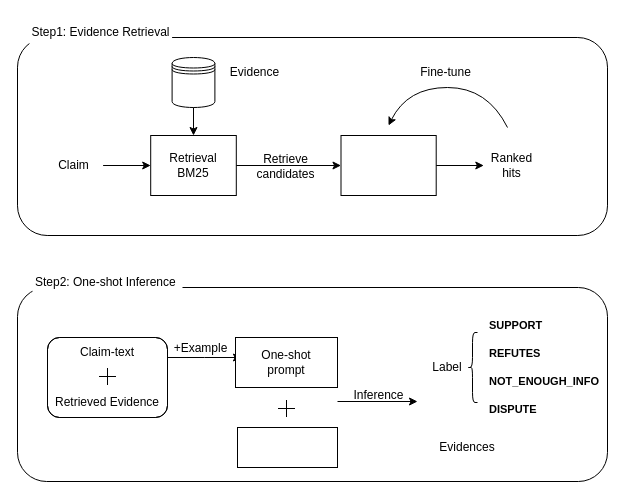
Image size: 625x499. Some labels were removed from this diagram. Here are the shapes that lost their labels. From the top down, the box of each, then its label:
(340, 134, 436, 196): Re-Ranker Cross-Encoder
(236, 426, 338, 468): LLM
